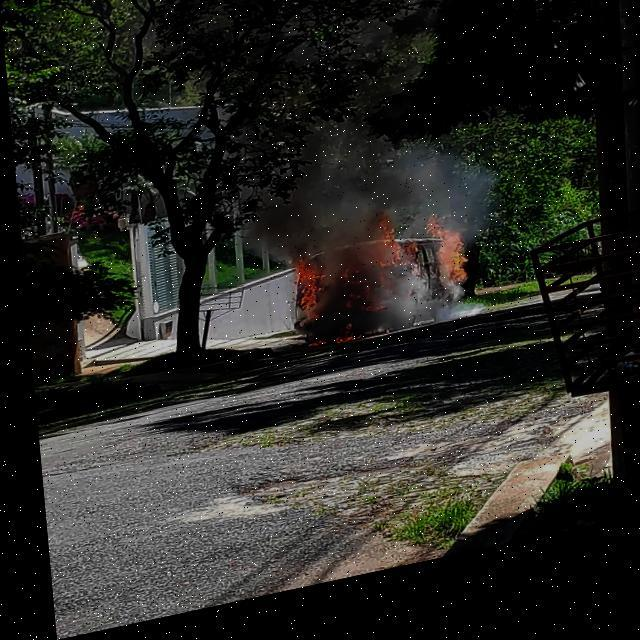Fire: (418, 228, 464, 308), (368, 219, 410, 286), (332, 272, 378, 332), (281, 270, 321, 337), (326, 333, 350, 357), (298, 349, 320, 360)
